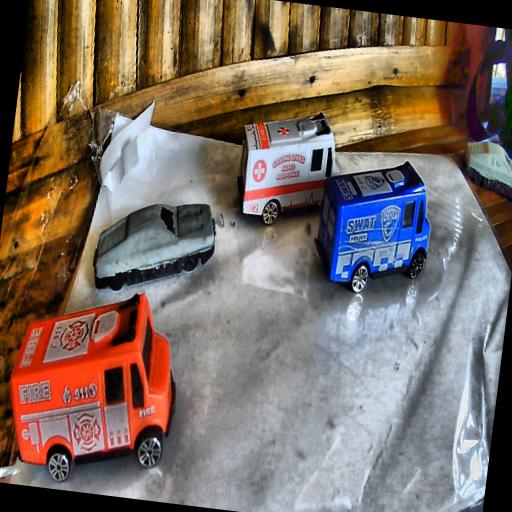ambulance: (232, 103, 337, 232)
fire_truck: (0, 276, 191, 495)
normal_car: (90, 191, 220, 304), (460, 136, 512, 202)
police car: (310, 150, 440, 300)
